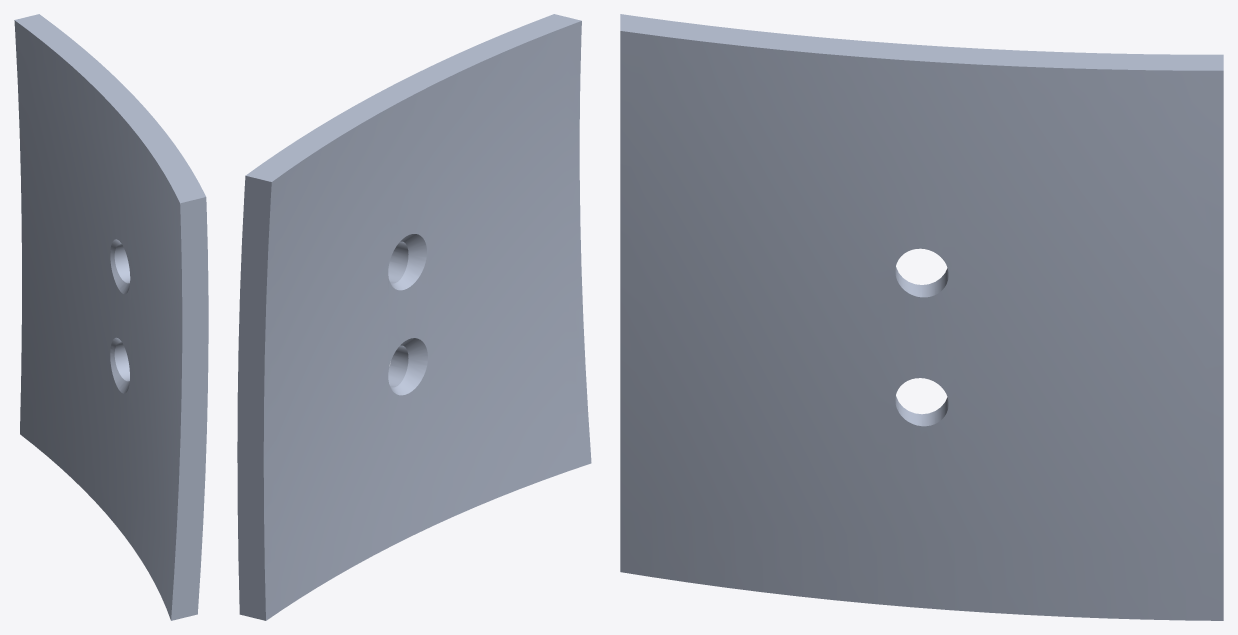
Rendered from UA_26EV_TopSeatMounting__UA_26EV_TopSeatMounting_BackingPlate_2.dae.
The picture shows the model from 3 angles, left to right: view 1: azimuth 30°, elevation 25°; view 2: azimuth 150°, elevation 25°; view 3: azimuth 270°, elevation 25°; orthographic projection. The views are drawn at different scales.
Visible parts, largest first — view 1: node0; view 2: node0; view 3: node0.
Part boxes in pixels (x1,y1,x2,y2): node0: [14, 14, 208, 620]; node0: [237, 14, 591, 620]; node0: [620, 14, 1223, 620].
Size of the model in its own units: 0.0134 by 0.0508 by 0.0508.
